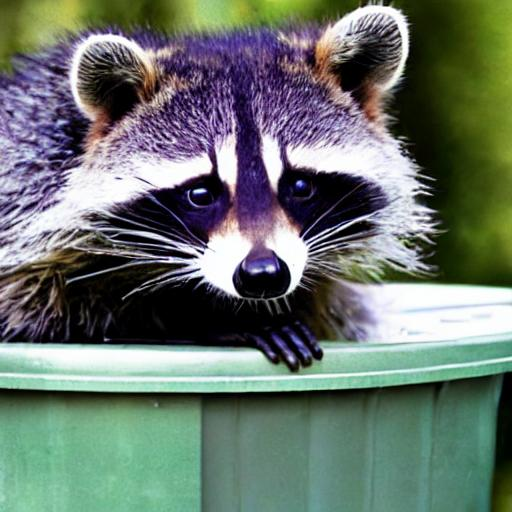raccoon: (0, 0, 445, 345)
